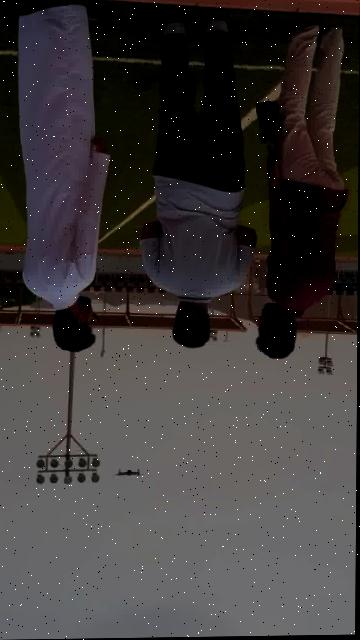drone: (112, 465, 146, 488)
